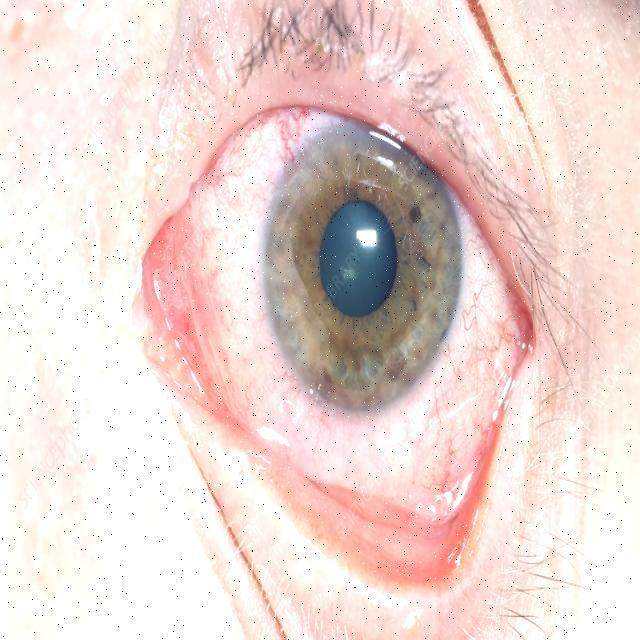Conjunctivitis: (138, 114, 536, 567)
